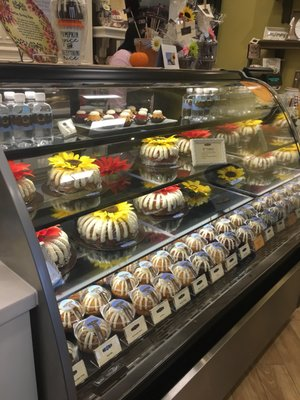burger: (51, 0, 85, 64)
sushi: (76, 210, 133, 249), (48, 157, 103, 195), (36, 225, 74, 272)
